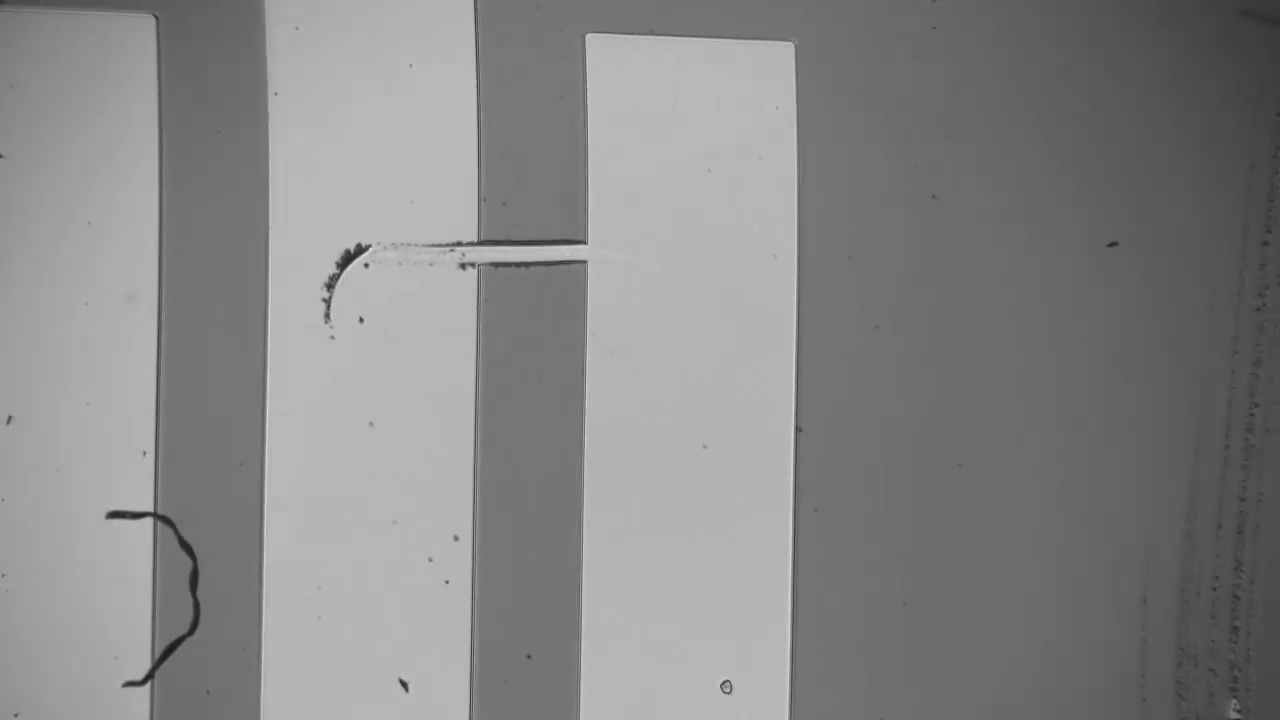Short_circuit: (431, 214, 616, 298)
